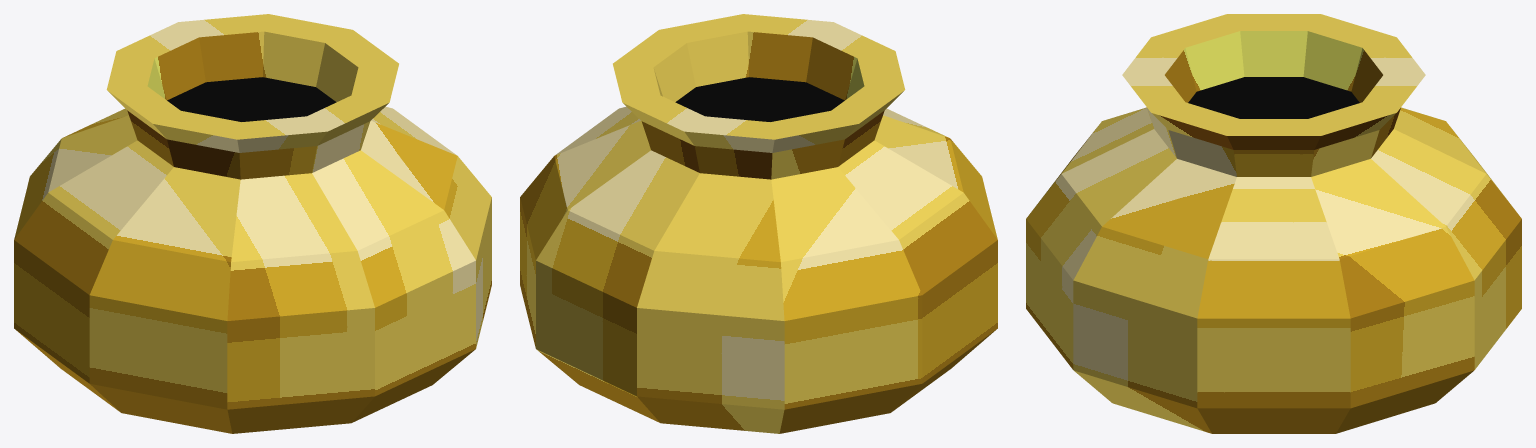
File: pot_944x05.gltf
3 views of the same model, side by side, from view 1: azimuth 30°, elevation 25°; view 2: azimuth 150°, elevation 25°; view 3: azimuth 270°, elevation 25° (orthographic).
Visible parts, largest first — view 1: pot_944x05; view 2: pot_944x05; view 3: pot_944x05.
Part boxes in pixels (x1,y1,x2,y2): pot_944x05: (14,14,491,433); pot_944x05: (520,14,997,433); pot_944x05: (1026,14,1521,433).
Size of the model in its own units: 0.9511 by 0.62 by 1.
Materials: 1 (1 with a texture image).
